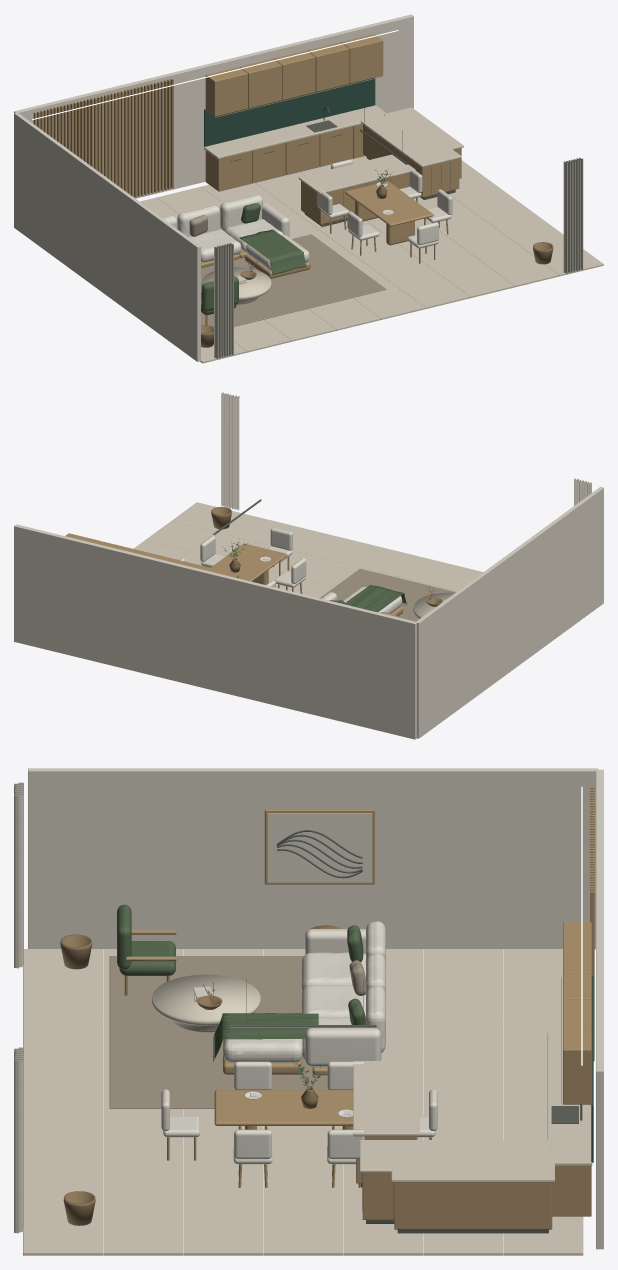
Rendered from kitchen65.glb.
The picture shows the model from 3 angles, top to bottom: view 1: azimuth 30°, elevation 25°; view 2: azimuth 150°, elevation 25°; view 3: azimuth 270°, elevation 25°; orthographic projection. The views are drawn at different scales.
Visible parts, largest first — view 1: room__wall, room__floor, room__cabinet, room__wood, room__rug, room__green, room__fabric, dining__wood, dining__fabric, room__counter, room__olive, island__counter (+7 smaller); view 2: room__wall, room__floor, room__rug, dining__wood, dining__fabric, room__olive, room__cabinet, room__decor; view 3: room__wall, room__floor, room__rug, room__fabric, lshape__cabinet, room__cabinet, dining__fabric, room__olive, dining__wood, island__counter, room__stone, peninsula__counter (+7 smaller).
Boxes of the visible parts, box(x1,y1,x2,y2) form: room__wall: box(14, 14, 583, 361); room__floor: box(140, 156, 603, 363); room__cabinet: box(205, 34, 383, 191); room__wood: box(33, 78, 310, 325); room__rug: box(189, 214, 386, 326); room__green: box(204, 78, 375, 146); room__fabric: box(162, 194, 309, 270); dining__wood: box(321, 167, 448, 263); dining__fabric: box(317, 159, 452, 248); room__counter: box(204, 105, 386, 159); room__olive: box(201, 203, 306, 315); island__counter: box(298, 154, 415, 194); room__wall: box(14, 392, 603, 739); room__floor: box(133, 502, 483, 597); room__rug: box(320, 568, 455, 621); dining__wood: box(211, 538, 302, 593); dining__fabric: box(179, 527, 306, 587); room__olive: box(329, 585, 406, 612); room__cabinet: box(65, 533, 238, 578); room__decor: box(211, 507, 442, 606); room__wall: box(14, 768, 603, 1249); room__floor: box(23, 949, 583, 1255); room__rug: box(109, 956, 365, 1108); room__fabric: box(223, 921, 385, 1066); lshape__cabinet: box(394, 1182, 552, 1229); room__cabinet: box(552, 922, 591, 1216); dining__fabric: box(161, 1061, 437, 1164); room__olive: box(117, 904, 365, 1062); dining__wood: box(167, 1057, 431, 1187); island__counter: box(353, 1061, 419, 1136); room__stone: box(151, 974, 260, 1032); peninsula__counter: box(360, 1140, 550, 1172).
Size of the model in its own units: 10.9 by 2.98 by 8.85.
